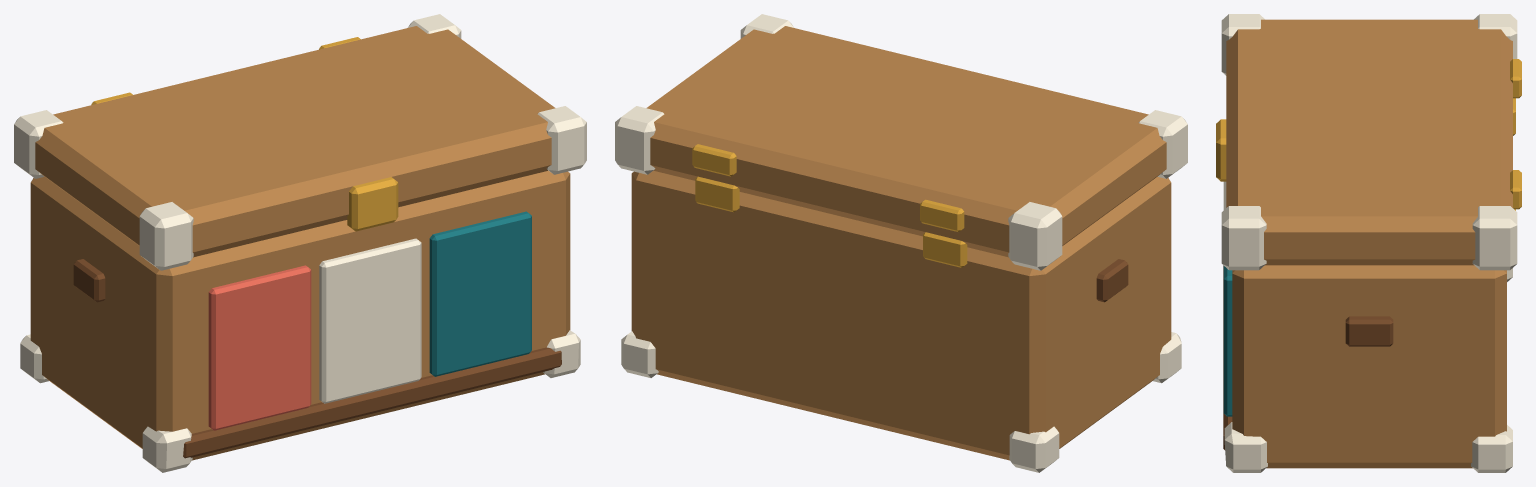
Rendered from lidded_chest.glb.
The picture shows the model from 3 angles, left to right: view 1: azimuth 30°, elevation 25°; view 2: azimuth 150°, elevation 25°; view 3: azimuth 270°, elevation 25°; orthographic projection.
Parts seen in each view (by area): view 1: lidded_chest, part_lid; view 2: lidded_chest, part_lid; view 3: part_lid, lidded_chest.
Part boxes in pixels (x1,y1,x2,y2): lidded_chest: (20,170,580,472); part_lid: (14,14,586,270); lidded_chest: (621,170,1181,472); part_lid: (615,14,1187,270); part_lid: (1216,14,1521,270); lidded_chest: (1223,98,1515,472).
Bounding box in the file's own units: 0.837 × 0.473 × 0.512.
